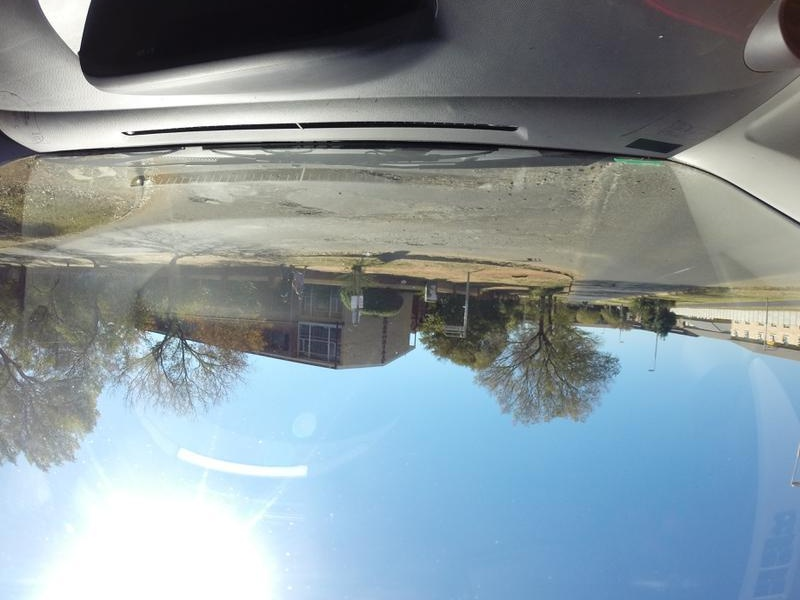pothole: (364, 170, 502, 196), (280, 194, 335, 226), (386, 232, 458, 251), (187, 188, 233, 214), (513, 253, 555, 267)
